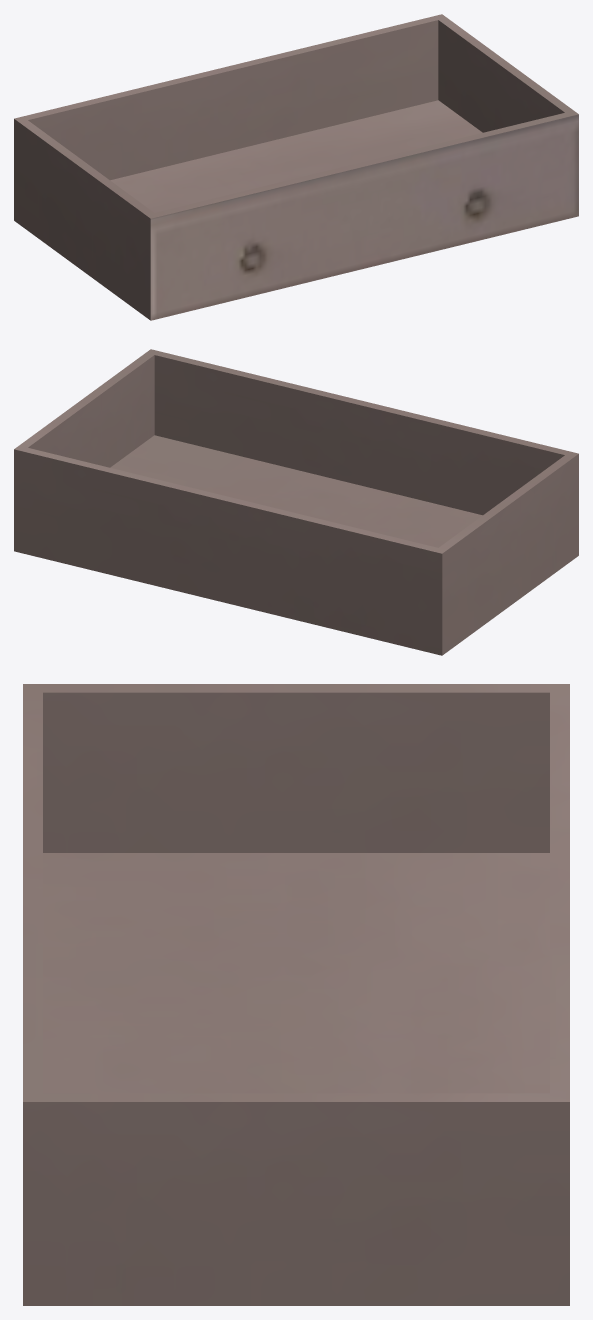
File: Chest_drawers_02_004-col.glb
3 renders of one model, top to bottom at view 1: azimuth 30°, elevation 25°; view 2: azimuth 150°, elevation 25°; view 3: azimuth 270°, elevation 25°, orthographic. The views are drawn at different scales.
Parts seen in each view (by area): view 1: Chest_drawers_02.004-col; view 2: Chest_drawers_02.004-col; view 3: Chest_drawers_02.004-col.
Boxes of the visible parts, x1,y1,x2,y2 form: Chest_drawers_02.004-col: (14,14,578,320); Chest_drawers_02.004-col: (14,349,578,655); Chest_drawers_02.004-col: (23,684,569,1305).
Size of the model in its own units: 2.52 by 0.5738 by 1.39.
1 material, 1 textured.
